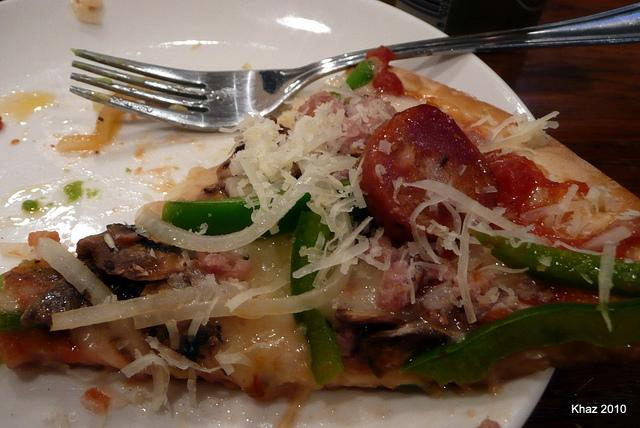bell pepper: (398, 300, 638, 388), (469, 228, 640, 299), (290, 211, 344, 388), (162, 190, 286, 236), (346, 60, 374, 90), (366, 48, 396, 68)
mushroom: (76, 223, 186, 281), (356, 324, 434, 378), (20, 278, 94, 326), (203, 144, 246, 195), (372, 320, 452, 344), (335, 310, 404, 326)
onion: (134, 156, 360, 252), (134, 266, 354, 332), (51, 281, 252, 331), (404, 180, 524, 231), (34, 238, 122, 306), (519, 196, 621, 226), (458, 209, 477, 324), (239, 158, 269, 212), (476, 134, 532, 154), (348, 168, 368, 208), (218, 350, 254, 366), (467, 130, 492, 146), (303, 130, 314, 142)
